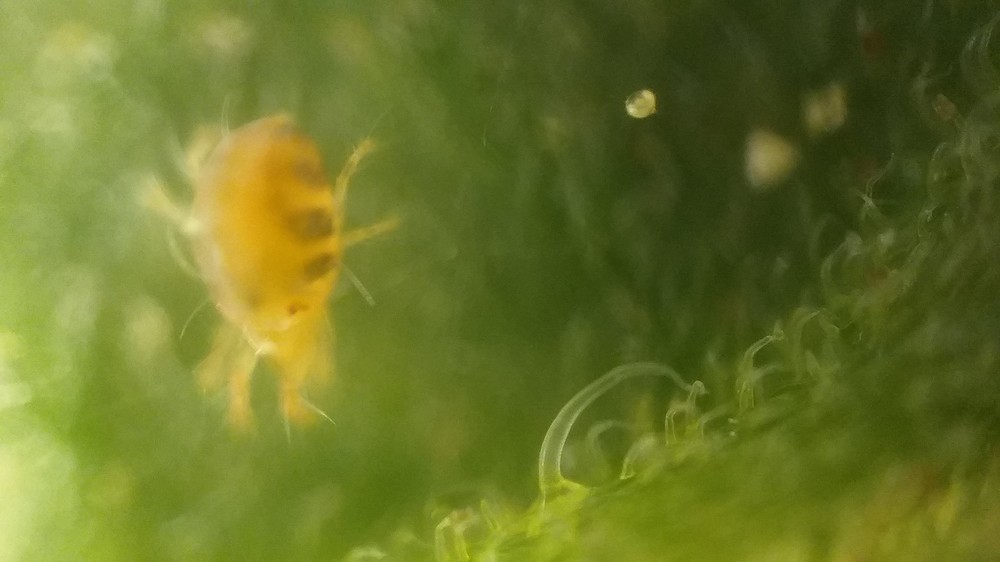Aracnido Rojo: (116, 85, 435, 460)
